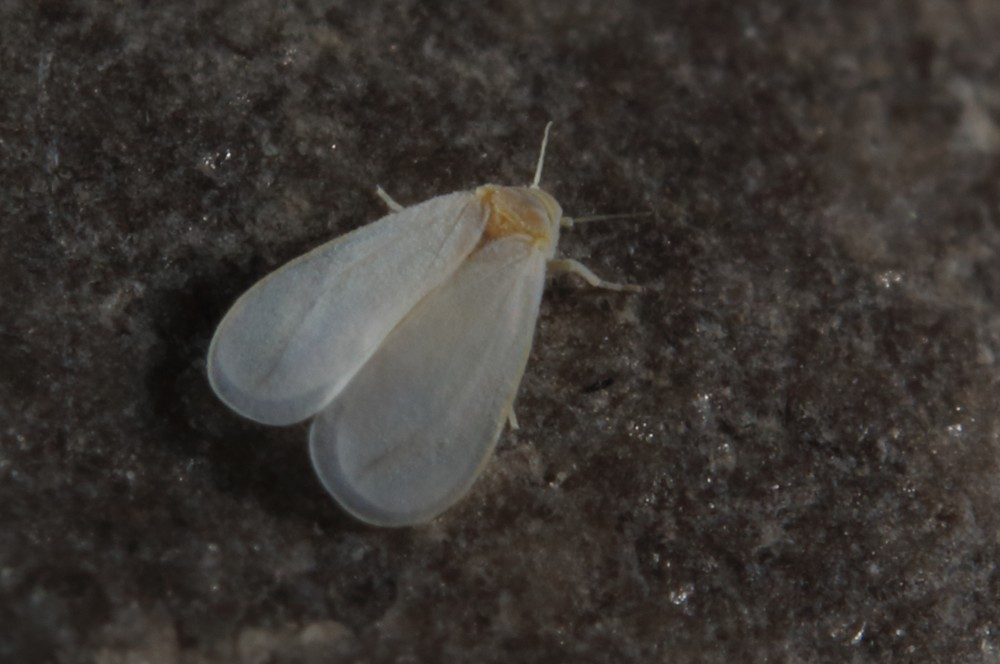Mosca Blanca: (205, 119, 654, 542)
